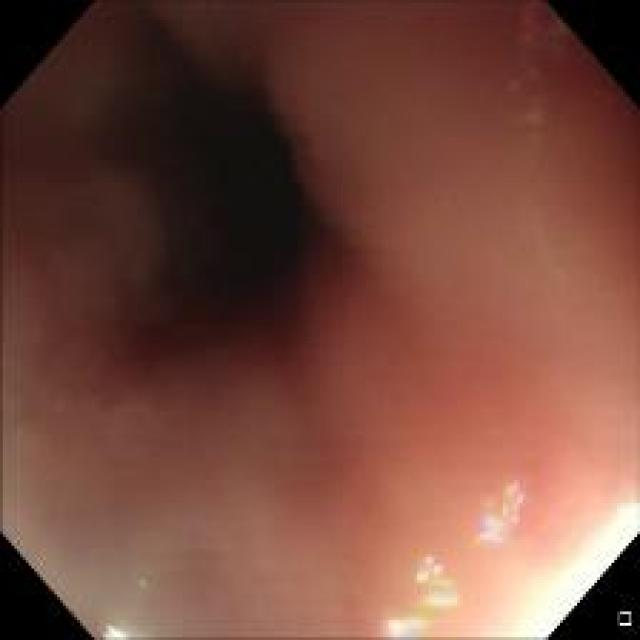color misalignment: (371, 549, 471, 636), (516, 2, 568, 160), (470, 469, 540, 556), (94, 618, 136, 636)
contrast: (116, 59, 324, 341)
saturation: (546, 492, 632, 622)
